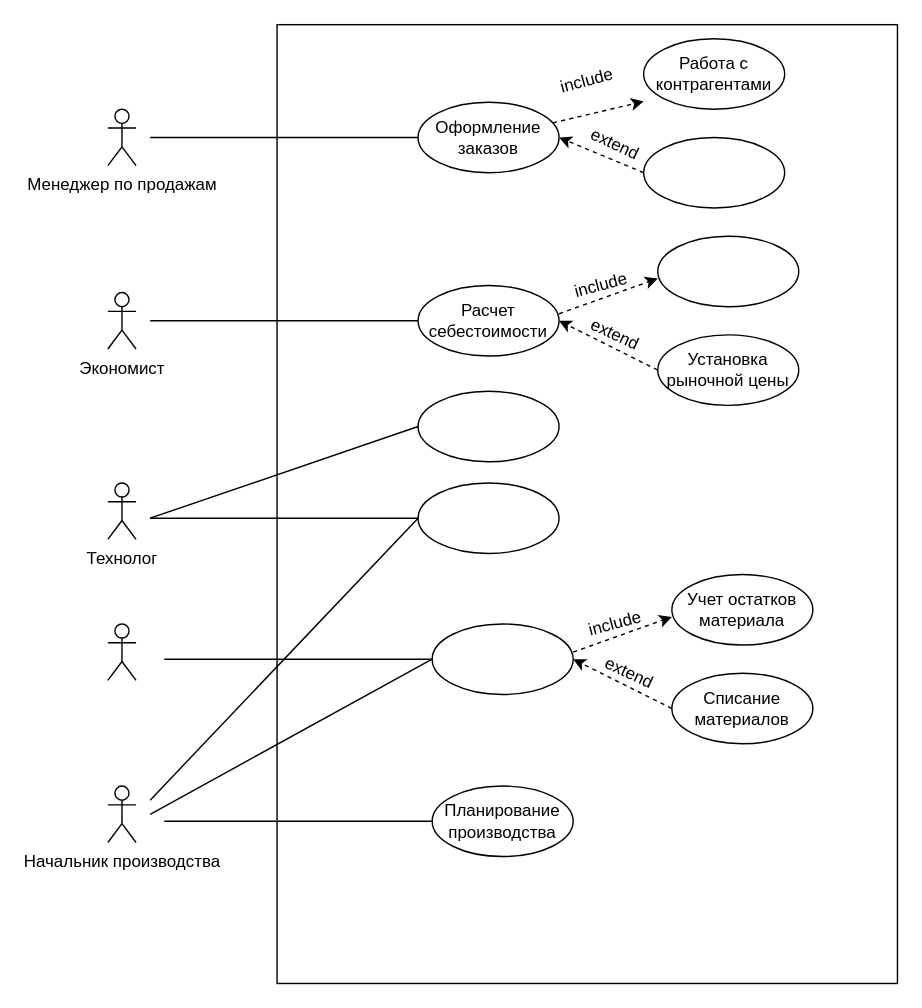
Some shapes in this 922 by 1008 pixel diagram are drawn without their labels. The shapes that lost their labels are listed below. From the top down, each one's centre as x and y in pixels, then its label:
At (713,172): "Формирование счета".
At (727,271): "Учет цен материалов".
At (488,426): "Работа со спецификациями".
At (488,517): "Контроль качества".
At (121,651): "Кладовщик".
At (502,658): "Учет производства".
